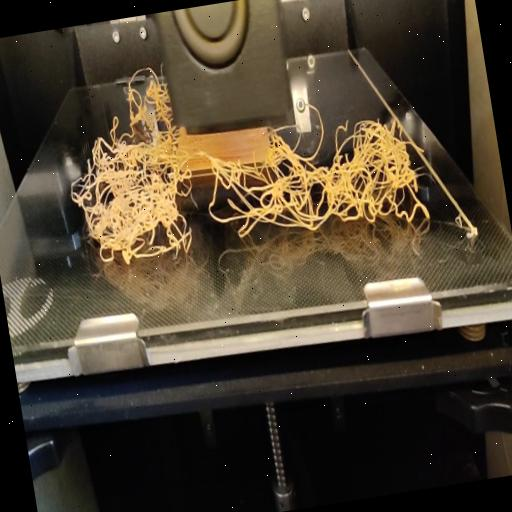spaghetti: (62, 89, 441, 287), (98, 54, 174, 138)
